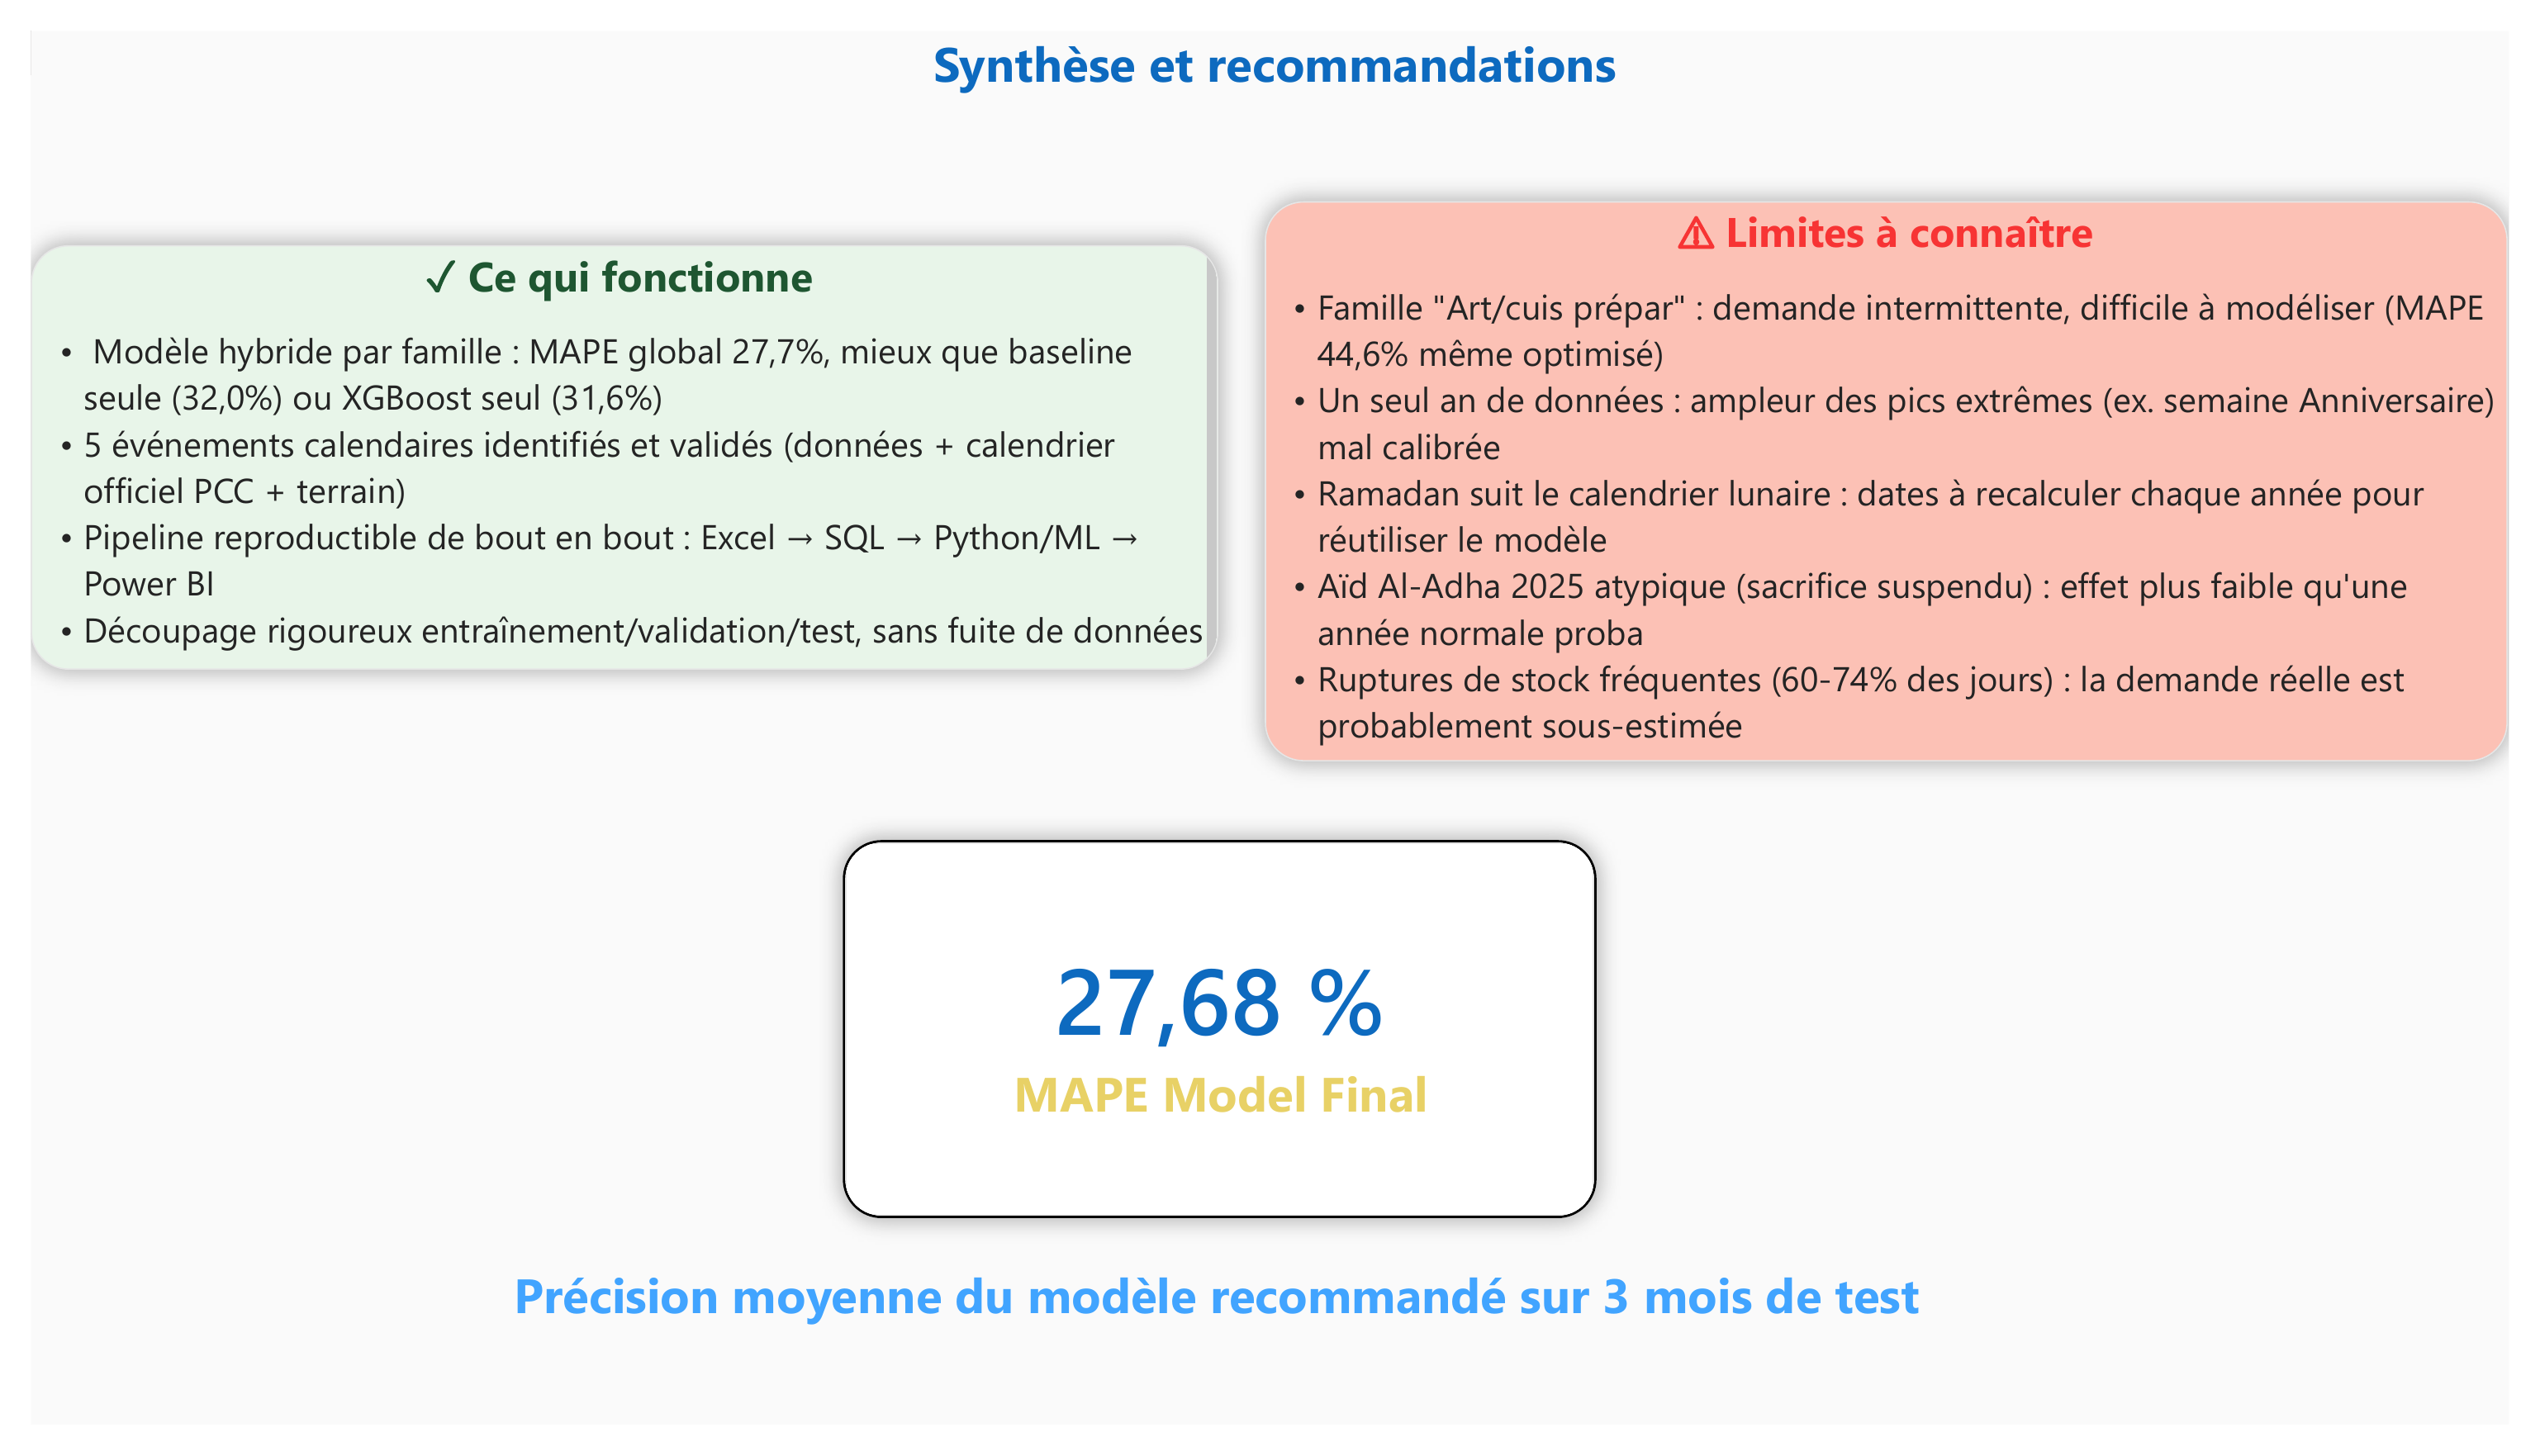

What the dashboard file says about the page in this screenshot:
{"tool":"powerbi","page":{"name":"Recommandations & Limites","canvas":[1920,1080],"ordinal":3},"visuals":[{"type":"textbox","box":[9.1,0,1910.2,75],"z":0},{"type":"textbox","box":[956.2,131.7,963,433.8],"z":1000},{"type":"textbox","box":[0,165.8,919.9,329.3],"z":2000},{"type":"cardVisual","fields":{"Data":["Mesures.MAPE Model Final"]},"box":[629.2,626.9,583.7,293],"z":3000},{"type":"textbox","box":[343,953.9,1151.6,90.9],"z":4000}]}

Visuals, with their boxes on the page's 1920x1080 design canvas (x1, y1, x2, y2). These are canvas units, not pixel positions in the 2540x1456 screenshot, which may show the page scaled, cropped or inside an application window:
textbox: 9/0/1919/75
textbox: 956/132/1919/566
textbox: 0/166/920/495
cardVisual - Mesures.MAPE Model Final: 629/627/1213/920
textbox: 343/954/1495/1045
